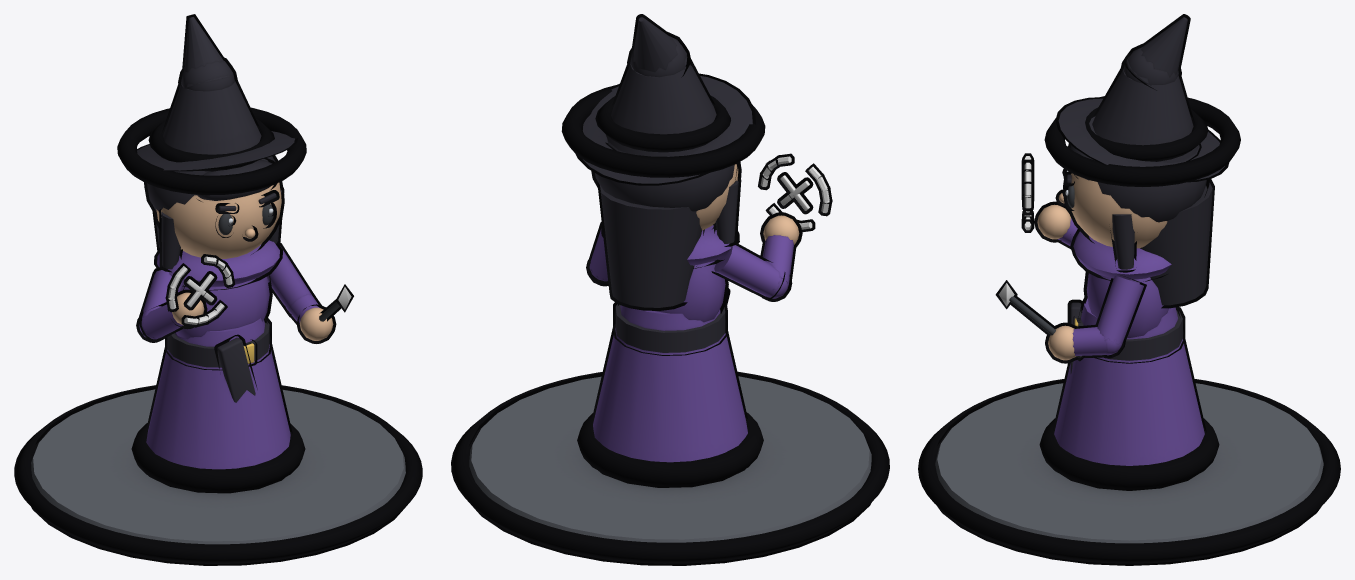
Rendered from hexer.fbx.
The picture shows the model from 3 angles, left to right: view 1: azimuth 30°, elevation 25°; view 2: azimuth 150°, elevation 25°; view 3: azimuth 270°, elevation 25°; orthographic projection. The views are drawn at different scales.
Parts seen in each view (by area): view 1: hexer; view 2: hexer; view 3: hexer.
Part boxes in pixels (left/top/right/bottom): hexer: left=14, top=14, right=422, bottom=565; hexer: left=451, top=14, right=889, bottom=565; hexer: left=918, top=14, right=1340, bottom=565.
Size of the model in its own units: 1.58 by 1.92 by 1.58.
2 materials, 1 textured.
